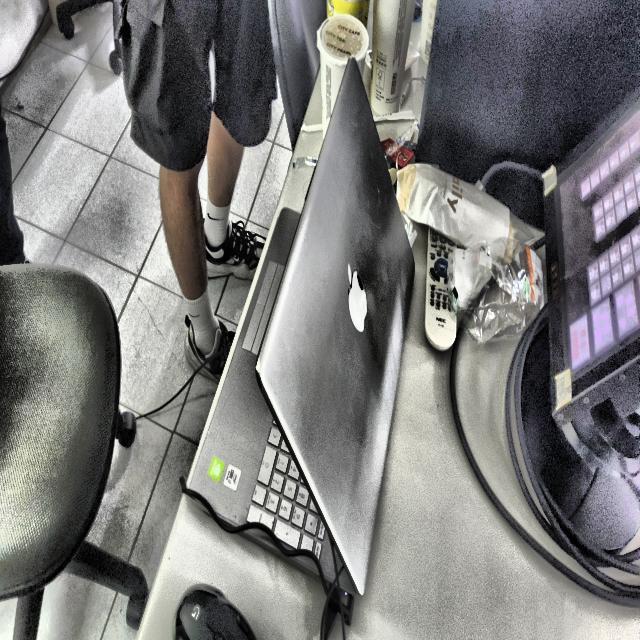Laptop: (189, 63, 413, 594)
MOUSE: (173, 585, 256, 640)
Screen: (545, 98, 640, 427)
